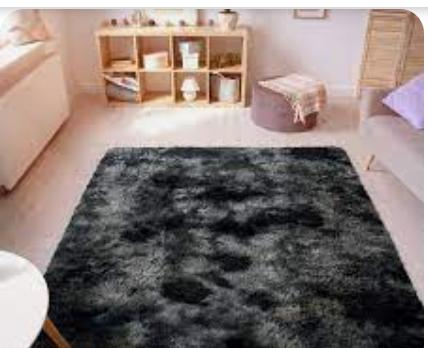carpet: (44, 147, 423, 348)
